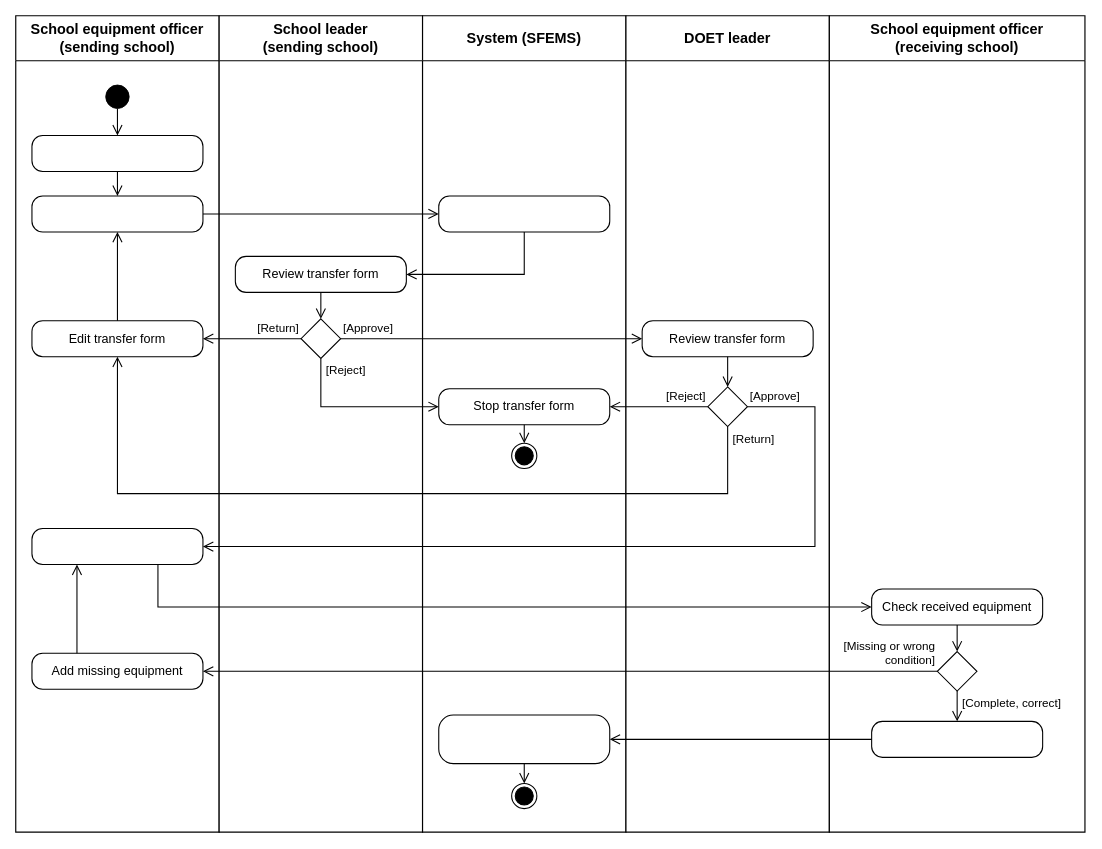
Some shapes in this 1102 by 849 pixel diagram are drawn without their labels. Each missing label, with the centre of its shape:
"Assign number, set Pending approval" goes at (524,213).
"Confirm receipt" goes at (957,738).
"Create transfer form" goes at (117,153).
"Deliver equipment" goes at (117,546).
"Submit transfer form" goes at (117,213).
"Write off at sending school, register at receiving school" goes at (524,739).
